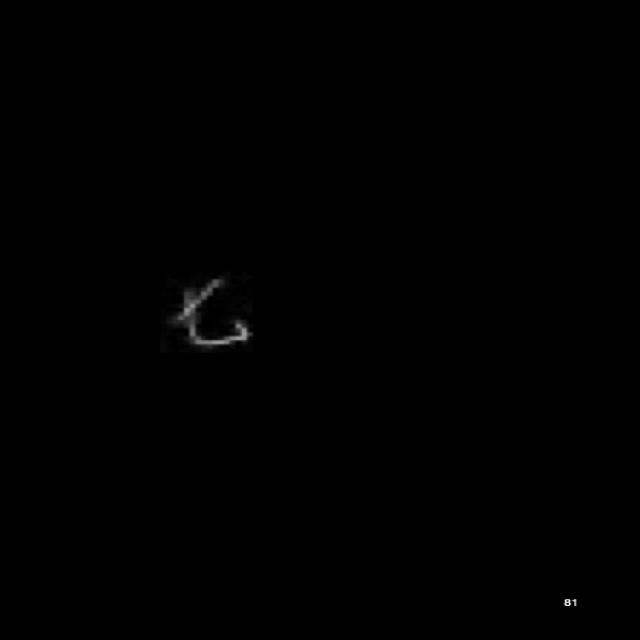7 -seven-: (164, 274, 261, 356)
